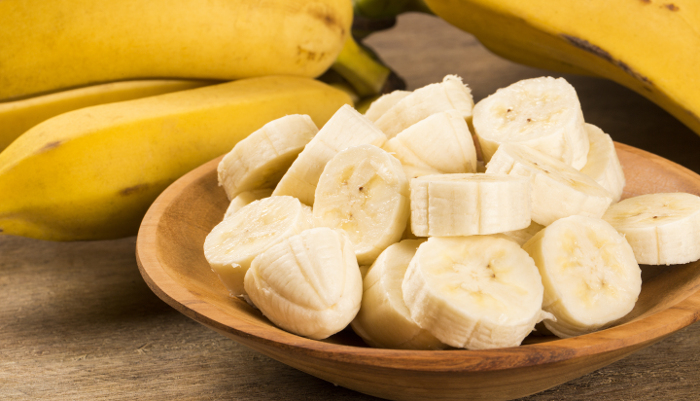banana: (206, 89, 700, 350), (1, 1, 341, 237), (458, 1, 700, 109)
